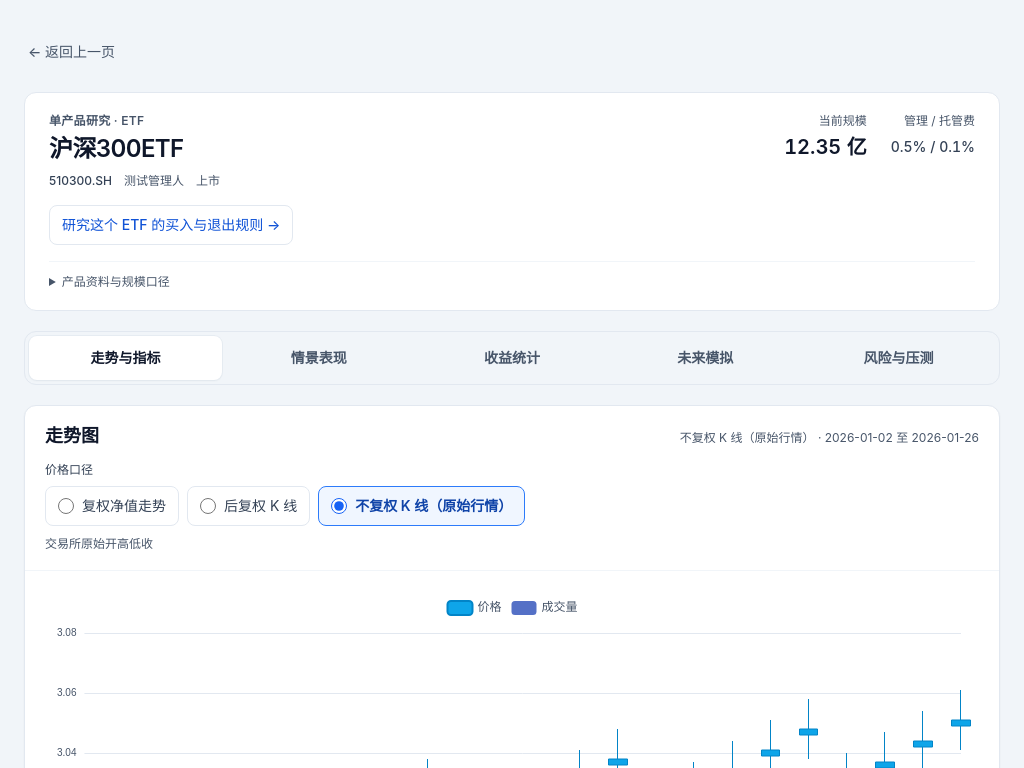
ProductDetail custom indicators › 实际走势走完后，把中枢最接近的模型标出来
Click the tab "未来模拟": (705, 358) [609, 336, 802, 380]
(page scrolled)
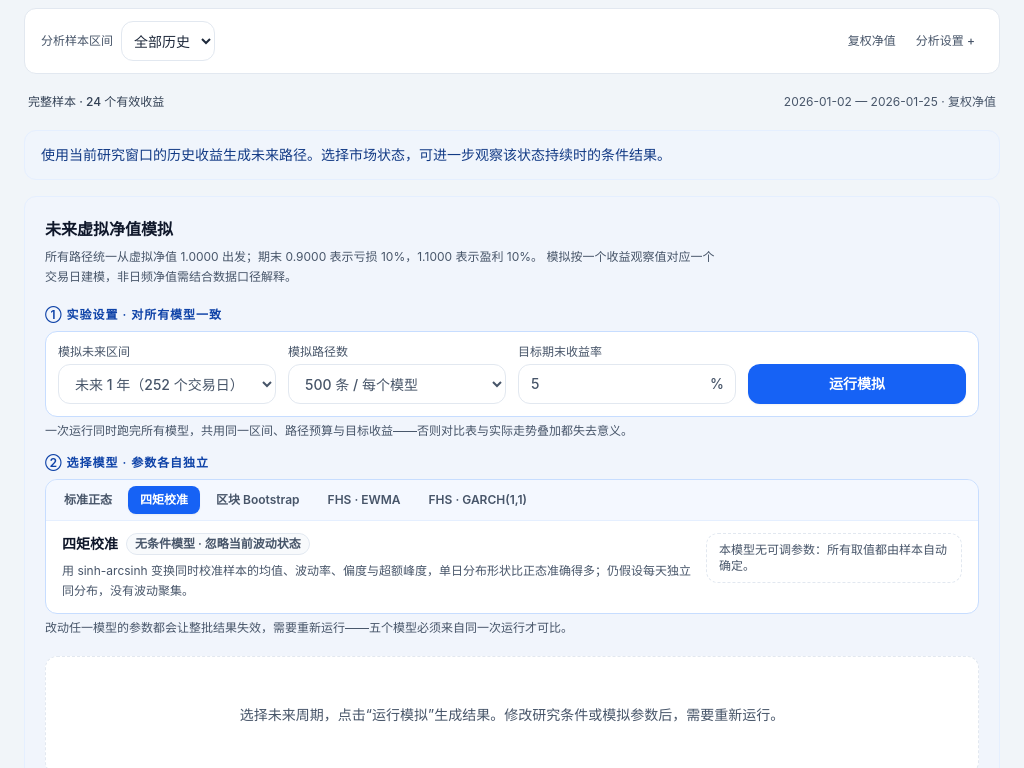
Select "未来 1 个月（21 个交易日）" in the dropdown labelled "模拟未来区间": (167, 384) [58, 364, 276, 404]
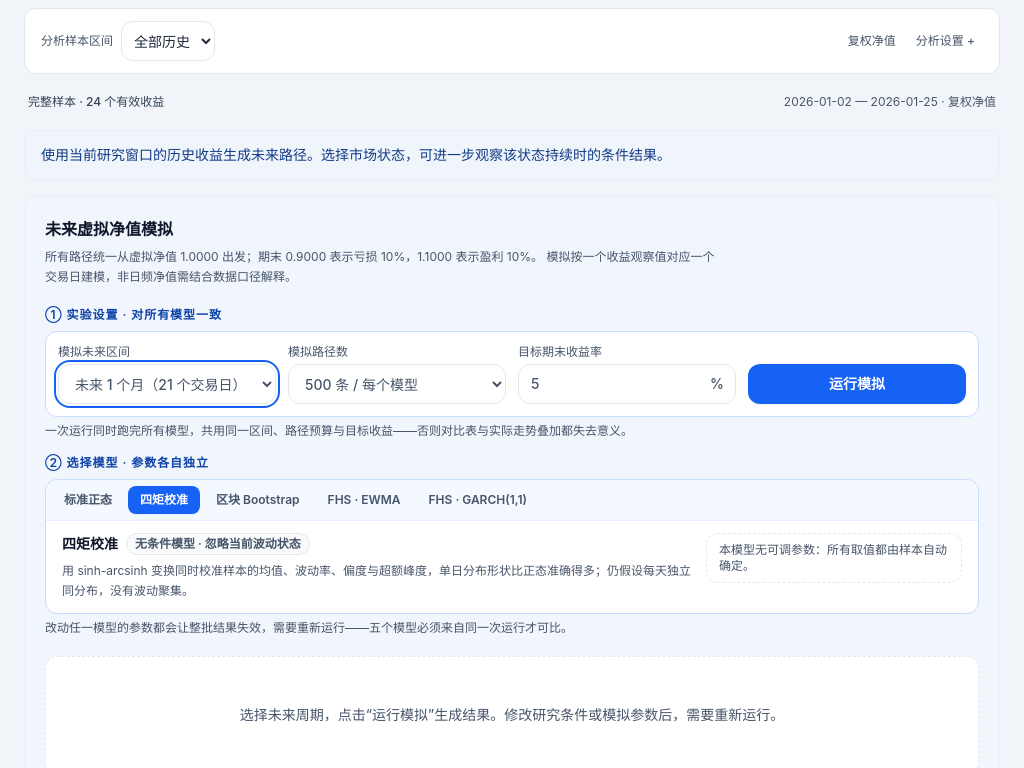
Click the button "运行模拟": (857, 384) [748, 364, 966, 404]
(page scrolled)
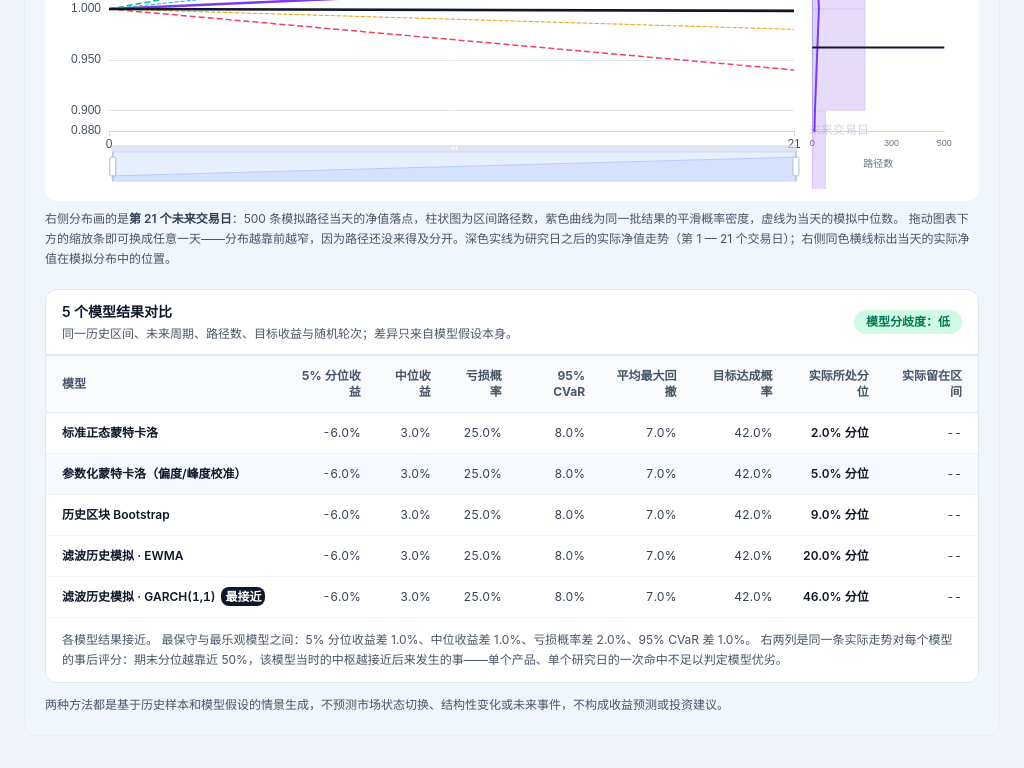
Now the text "最接近" is shown 2 times
Now the column heading "滤波历史模拟 · GARCH(1,1)最接近" is shown, box [46, 576, 281, 617]
